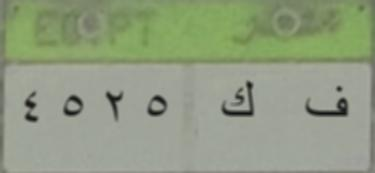2: (98, 83, 128, 130)
4: (20, 86, 44, 128)
5: (57, 88, 92, 126), (146, 86, 170, 125)
faa: (302, 82, 354, 124)
kaaf: (219, 75, 259, 125)
